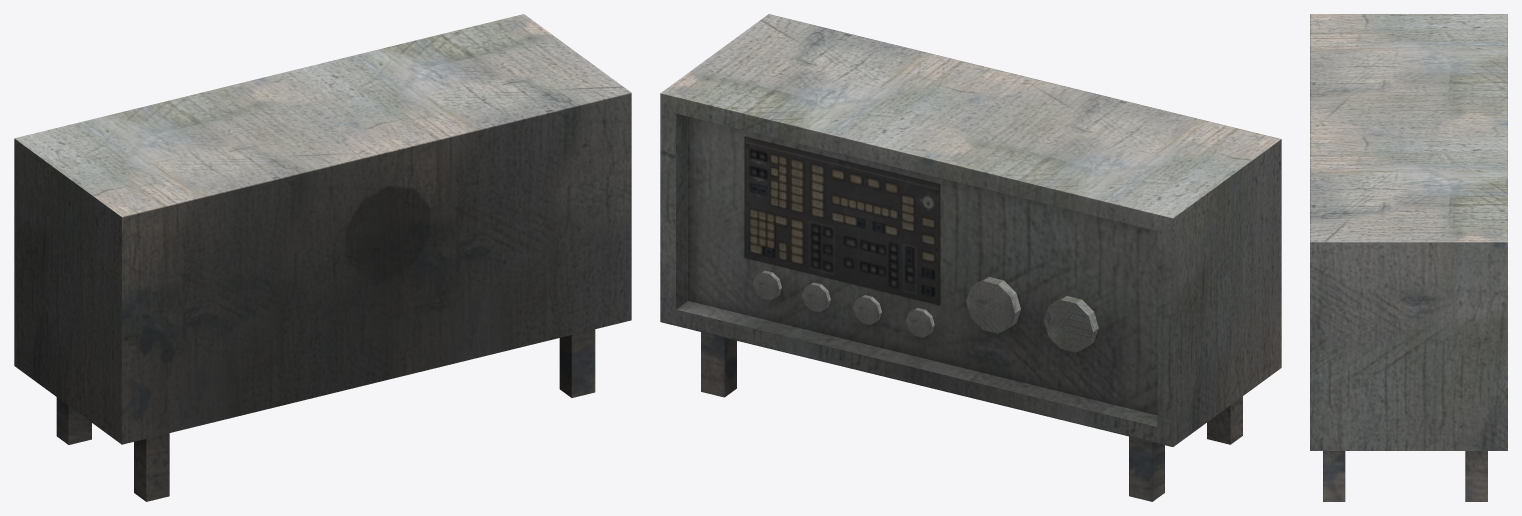
The model's file is control.fbx.
3 views of the same model, side by side, from view 1: azimuth 30°, elevation 25°; view 2: azimuth 150°, elevation 25°; view 3: azimuth 270°, elevation 25° (orthographic). The views are drawn at different scales.
Visible parts, largest first — view 1: control_Layer1; view 2: control_Layer1; view 3: control_Layer1.
Boxes of the visible parts, box(x1,y1,x2,y2) form: control_Layer1: box(14, 14, 631, 501); control_Layer1: box(660, 14, 1281, 501); control_Layer1: box(1310, 14, 1507, 501).
Bounding box in the file's own units: 1.02 × 0.5664 × 0.3718.
1 material, 1 textured.
